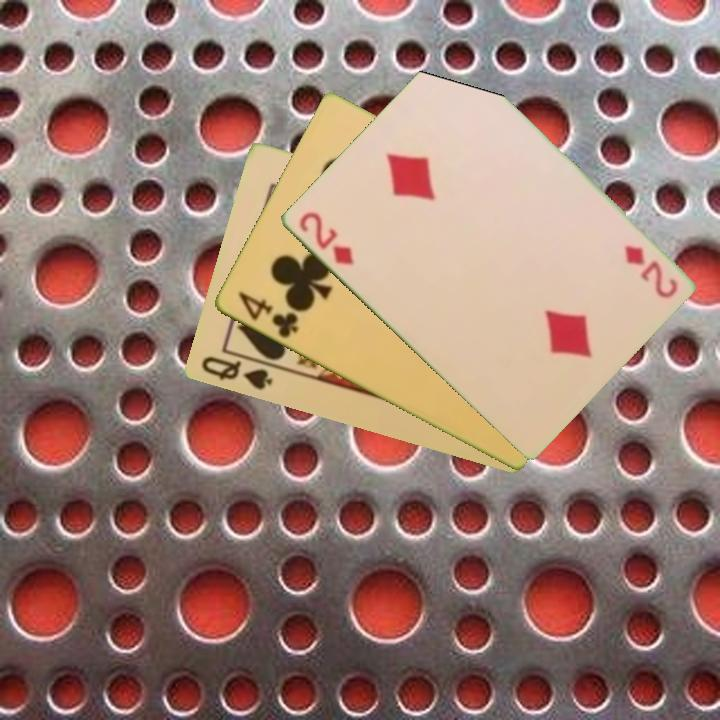2d: (294, 208, 356, 269), (620, 241, 680, 302)
4c: (233, 288, 301, 342)
Qs: (197, 353, 275, 393)
